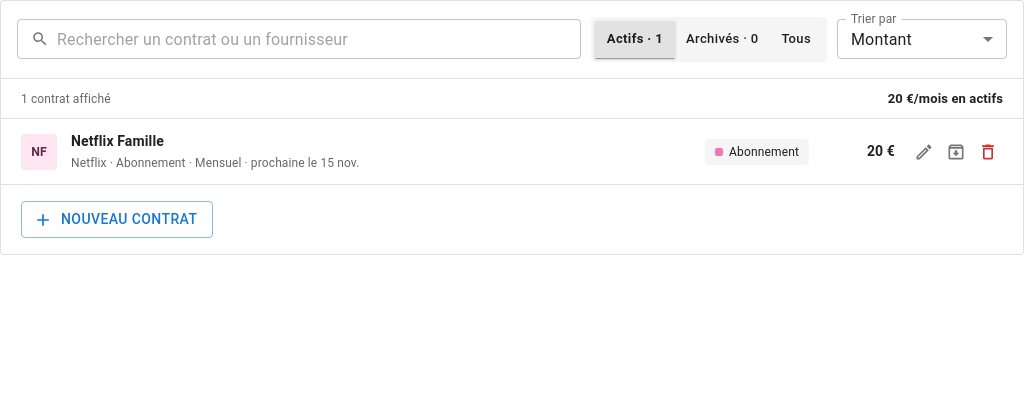
ContractSettings – actions › demande confirmation avant de supprimer et propose d'archiver
Click the button named "Supprimer Netflix Famille" at [988, 152], box left=973, top=137, right=1003, bottom=167
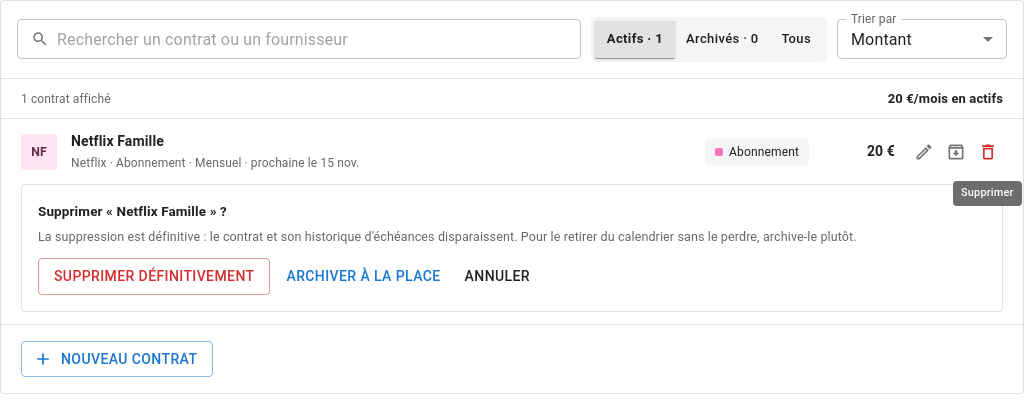
Now the text "Supprimer « Netflix Famille » ?" is shown, box left=38, top=203, right=227, bottom=219
Now the text "La suppression est définitive" is shown, box left=38, top=228, right=518, bottom=244
Now the button "Archiver à la place" is shown, box left=278, top=258, right=449, bottom=295
